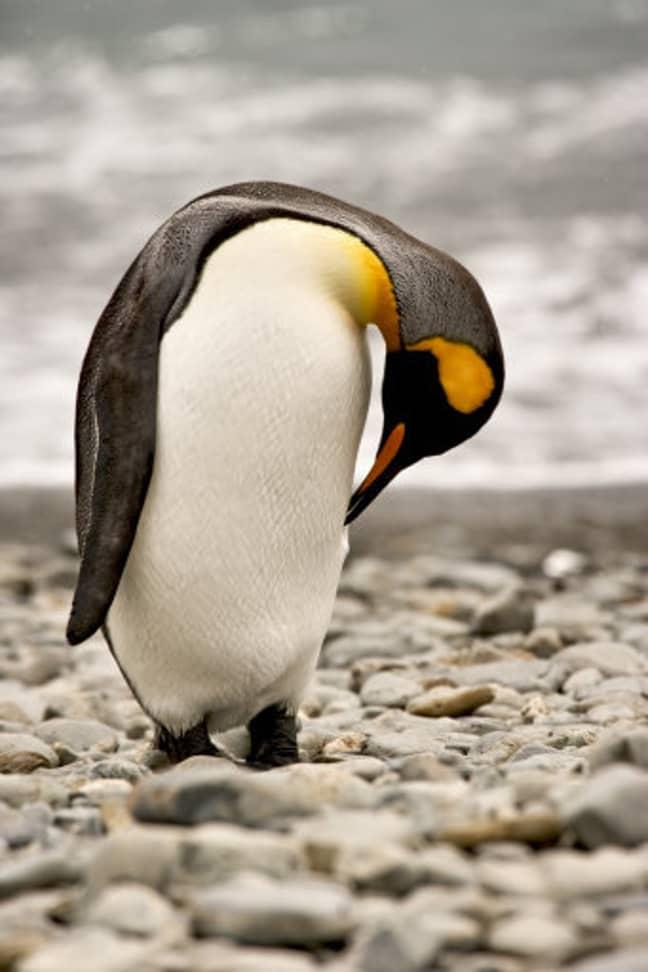king: (45, 156, 514, 778)
